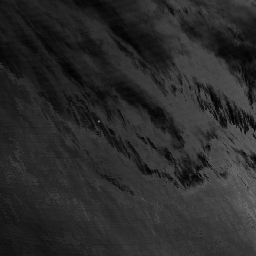Target: (96, 119, 101, 124)
